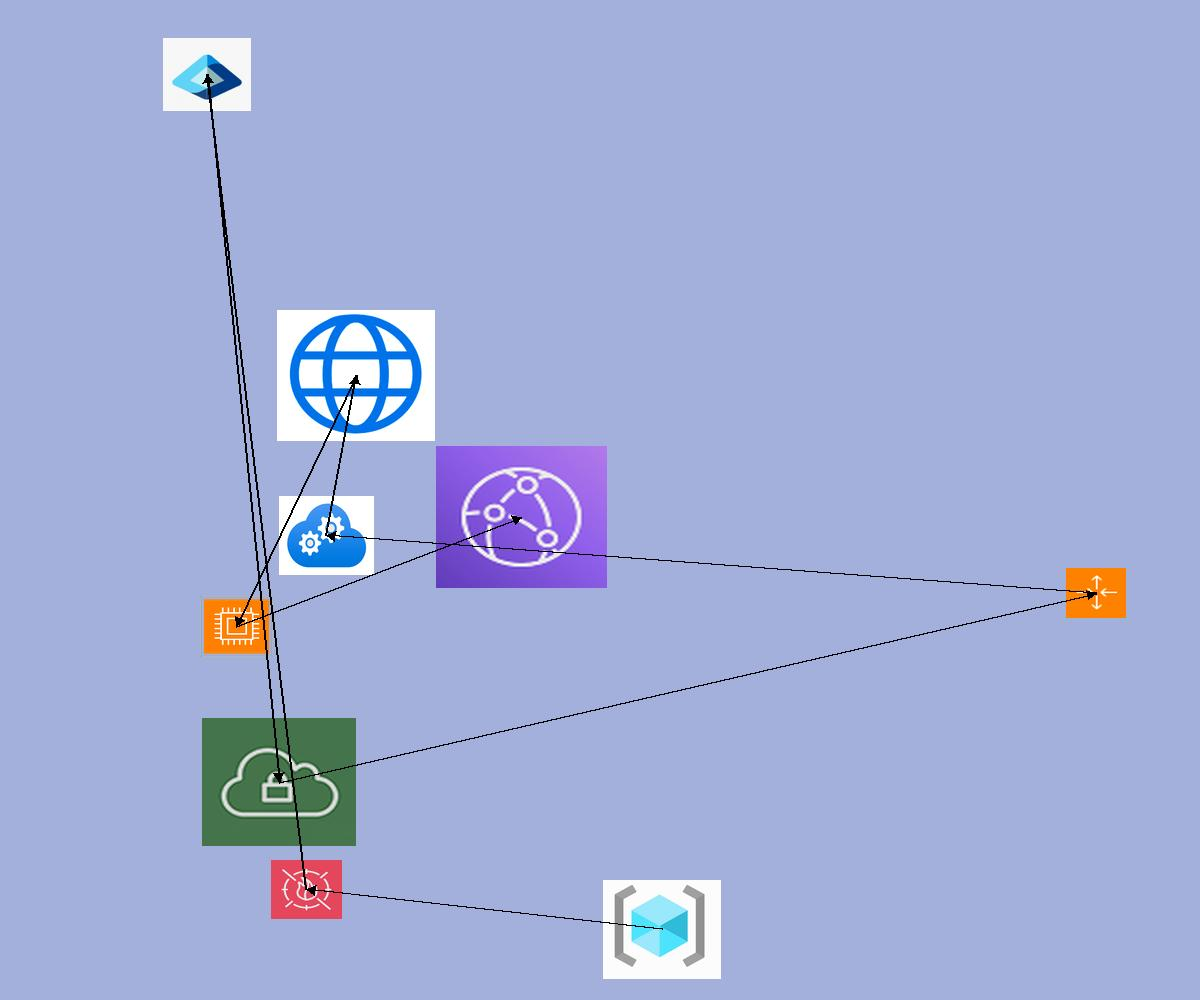AWS-Category_Compute: (200, 596, 273, 657)
AWS-CloudFront: (436, 446, 607, 588)
AWS-Private_vpc: (202, 718, 356, 846)
AWS-Scaling-group: (1066, 568, 1126, 618)
AWS-WAF: (271, 860, 342, 919)
Azure_cloud_services: (279, 496, 374, 575)
Azure_http: (277, 310, 435, 441)
Azure_microsoft_entra: (163, 38, 251, 111)
Azure_resource_group: (603, 880, 721, 979)
